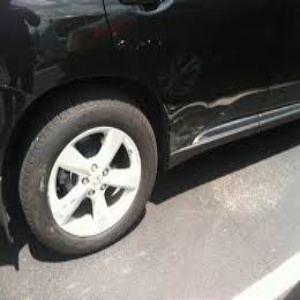head_lights: (24, 59, 245, 170)
